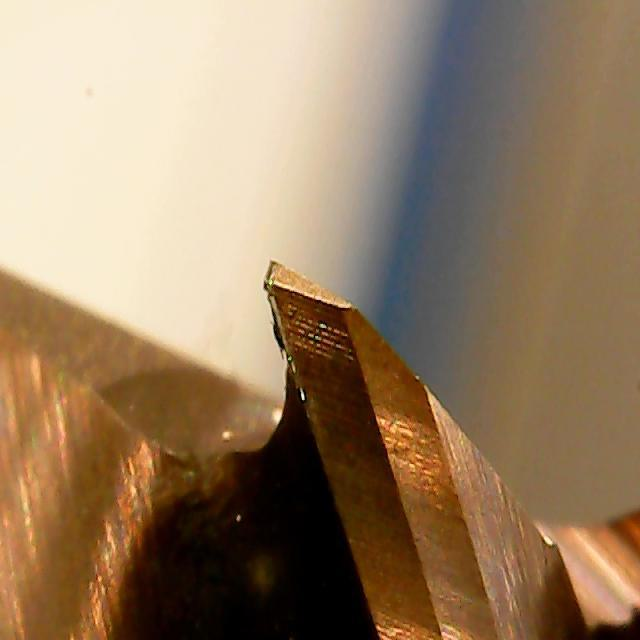Tool-wear-class-1: (249, 247, 416, 472)
